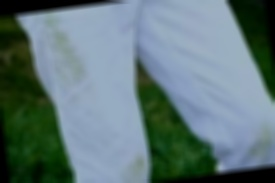earth: (48, 31, 84, 87), (250, 128, 274, 159), (127, 155, 149, 183), (42, 11, 59, 31)
